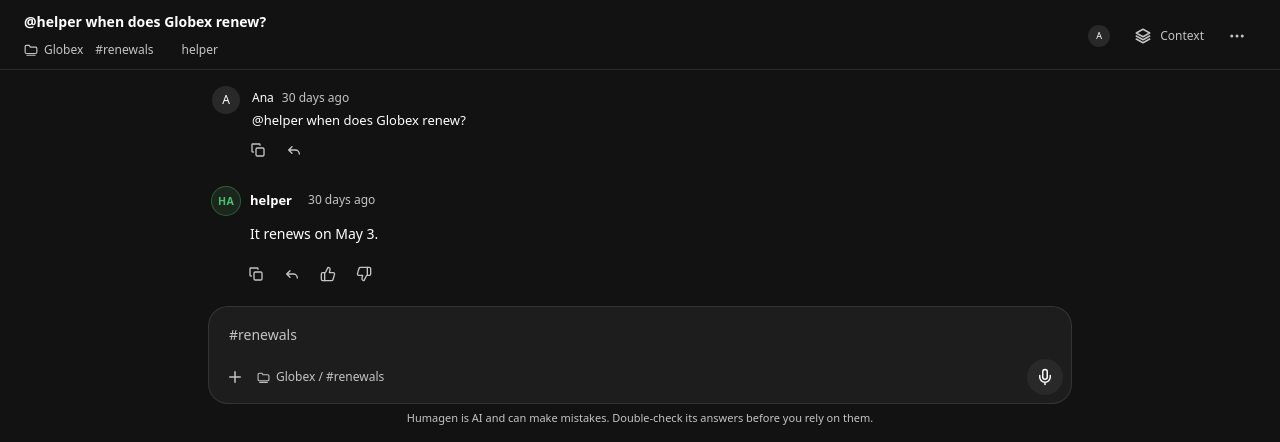
Scenario: copying an answer puts its Markdown on the clipboard in one click, with no menu
Click the button named "Copy answer": x=256, y=274 [240,258,272,290]
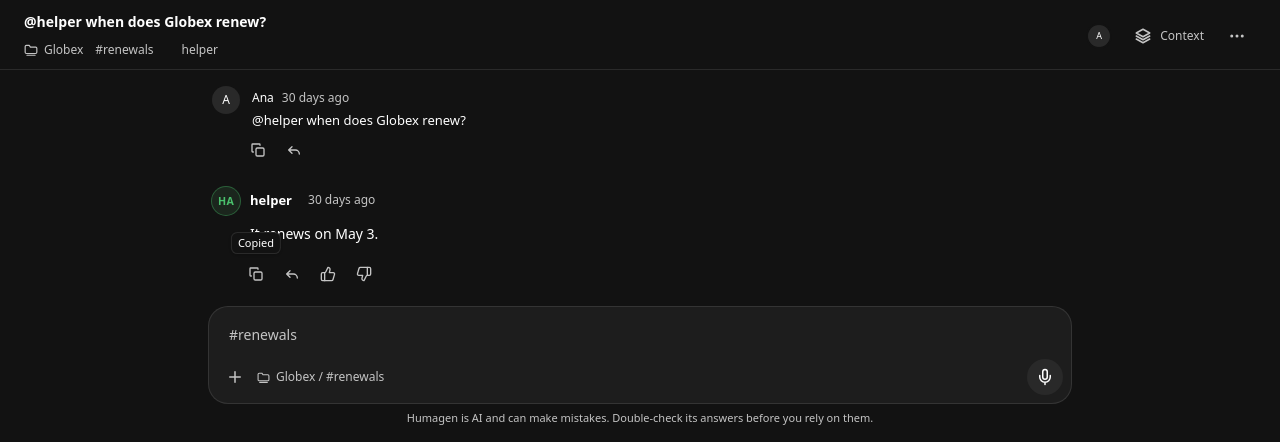
Expected: the text "Copied" is shown, [231,232,281,254]
